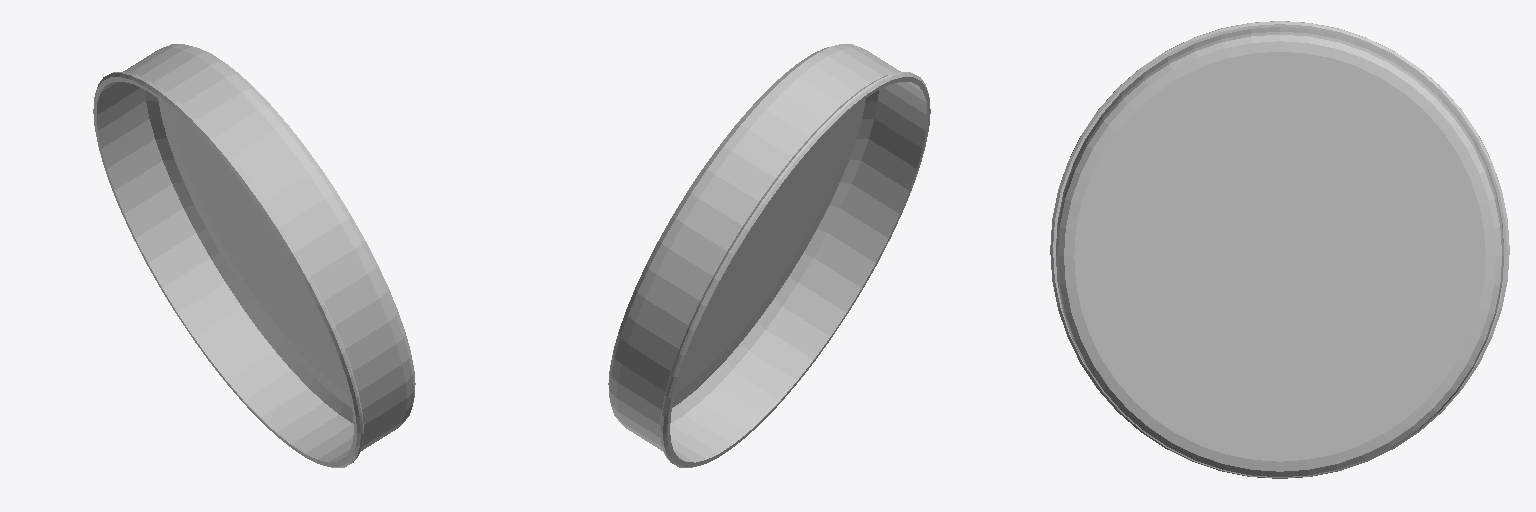
The model's file is tinboxtop.obj.
3 renders of one model, left to right at view 1: azimuth 30°, elevation 25°; view 2: azimuth 150°, elevation 25°; view 3: azimuth 270°, elevation 25°, orthographic.
Parts seen in each view (by area): view 1: TinCanBoxTop; view 2: TinCanBoxTop; view 3: TinCanBoxTop.
Part boxes in pixels (left/top/right/bottom): TinCanBoxTop: left=93, top=44, right=415, bottom=467; TinCanBoxTop: left=608, top=44, right=930, bottom=467; TinCanBoxTop: left=1050, top=21, right=1509, bottom=478.
Size of the model in its own units: 24.81 by 49.21 by 50.39.